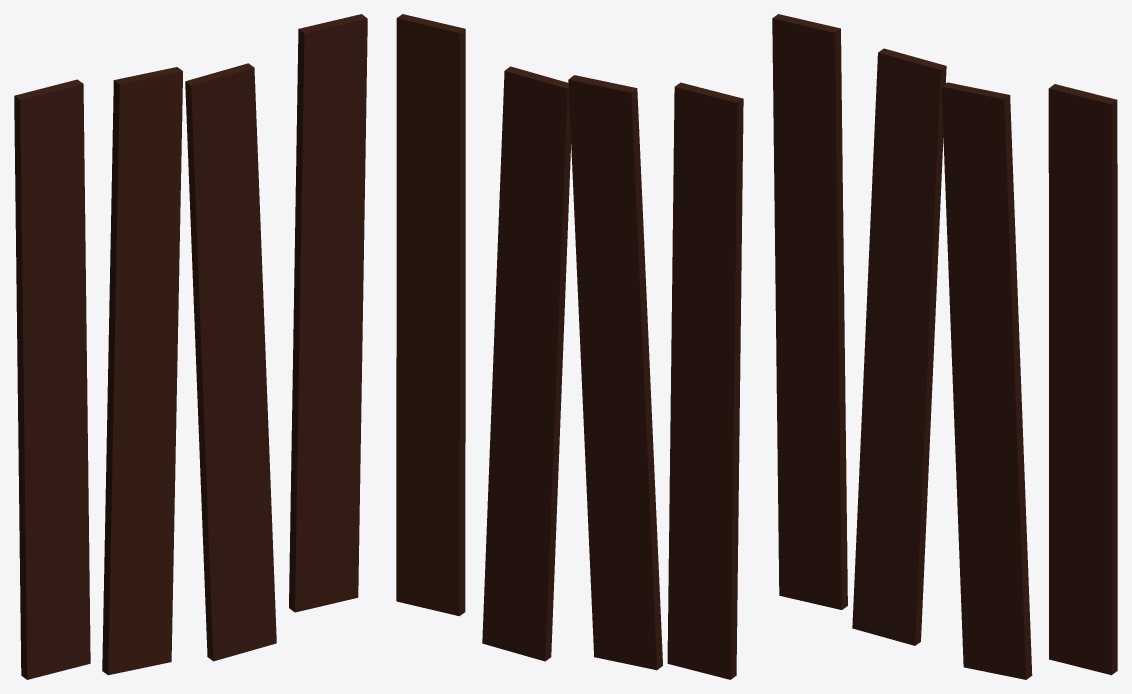
Rendered from Fence 1.fbx.
The picture shows the model from 3 angles, left to right: view 1: azimuth 30°, elevation 25°; view 2: azimuth 150°, elevation 25°; view 3: azimuth 330°, elevation 25°; orthographic projection.
Visible parts, largest first — view 1: Fence.004; view 2: Fence.004; view 3: Fence.004.
Part boxes in pixels (x1,y1,x2,y2): Fence.004: (14, 14, 367, 679); Fence.004: (396, 14, 743, 679); Fence.004: (772, 14, 1117, 679).
Size of the model in its own units: 267 by 450 by 17.71.
